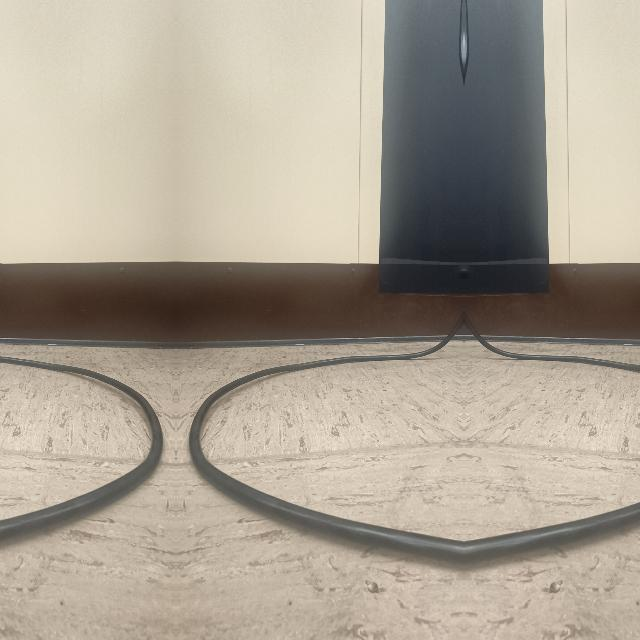obstacle: (188, 336, 464, 574), (464, 336, 640, 573), (0, 336, 162, 573)
